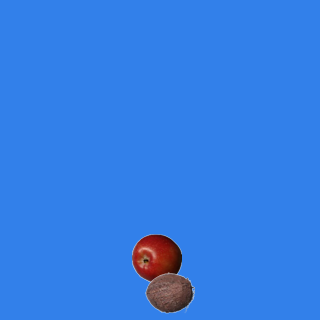Apple Braeburn: (131, 233, 181, 283)
Cocos: (144, 267, 194, 317)
